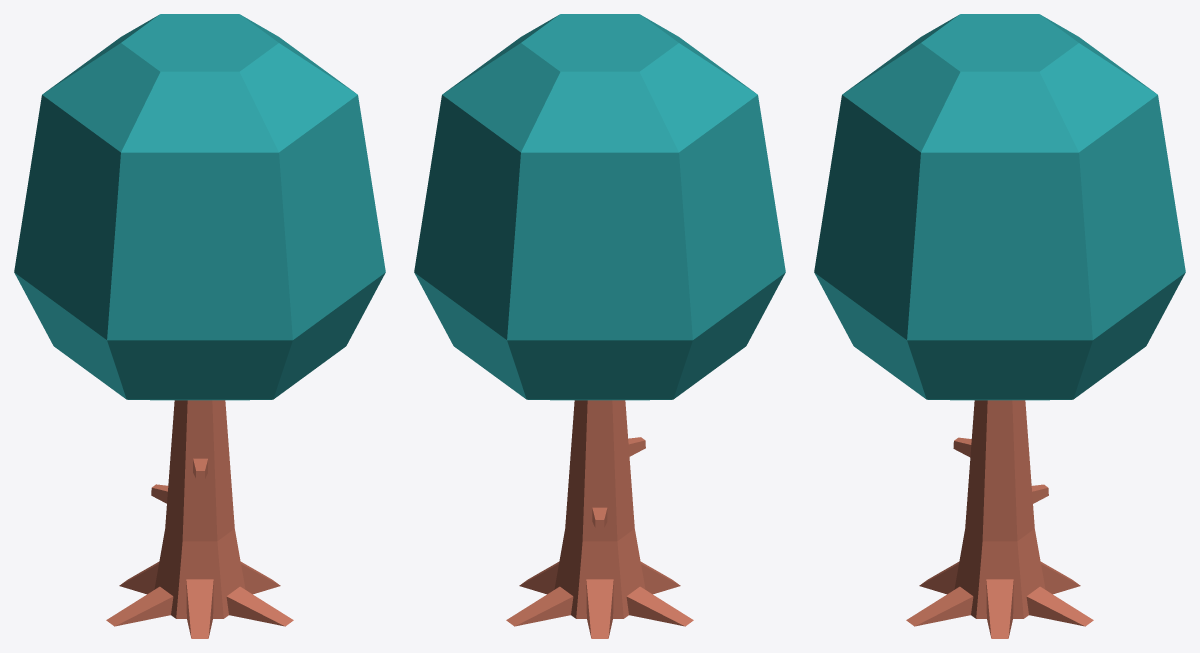
Rendered from tree_oak_dark.dae.
The picture shows the model from 3 angles, left to right: view 1: azimuth 30°, elevation 25°; view 2: azimuth 150°, elevation 25°; view 3: azimuth 270°, elevation 25°; orthographic projection.
Parts seen in each view (by area): view 1: tree_oak_dark; view 2: tree_oak_dark; view 3: tree_oak_dark.
Part boxes in pixels (box(x1,y1,x2,y2)): tree_oak_dark: box(14, 14, 385, 638); tree_oak_dark: box(414, 14, 785, 638); tree_oak_dark: box(814, 14, 1185, 638).
Bounding box in the file's own units: 0.6406 × 1.23 × 0.7396.
